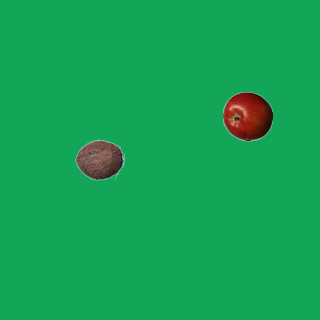Apple Braeburn: (222, 91, 272, 141)
Cocos: (74, 134, 124, 184)
